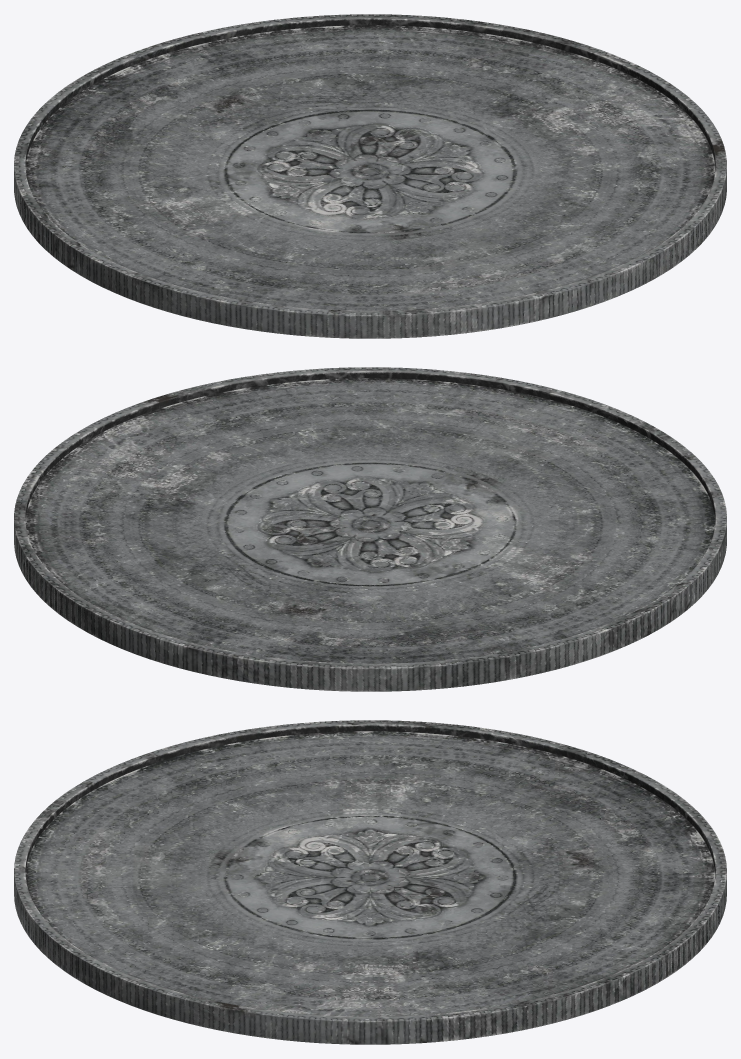
The model's file is silver-coin.glb.
3 renders of one model, top to bottom at view 1: azimuth 30°, elevation 25°; view 2: azimuth 150°, elevation 25°; view 3: azimuth 270°, elevation 25°, orthographic.
Parts seen in each view (by area): view 1: Silver Coin Ornamental; view 2: Silver Coin Ornamental; view 3: Silver Coin Ornamental.
Boxes of the visible parts, box(x1,y1,x2,y2) form: Silver Coin Ornamental: box(14, 14, 726, 338); Silver Coin Ornamental: box(14, 367, 726, 691); Silver Coin Ornamental: box(14, 720, 726, 1044).
Bounding box in the file's own units: 0.0344 × 0.00126 × 0.0344.
1 material, 1 textured.
